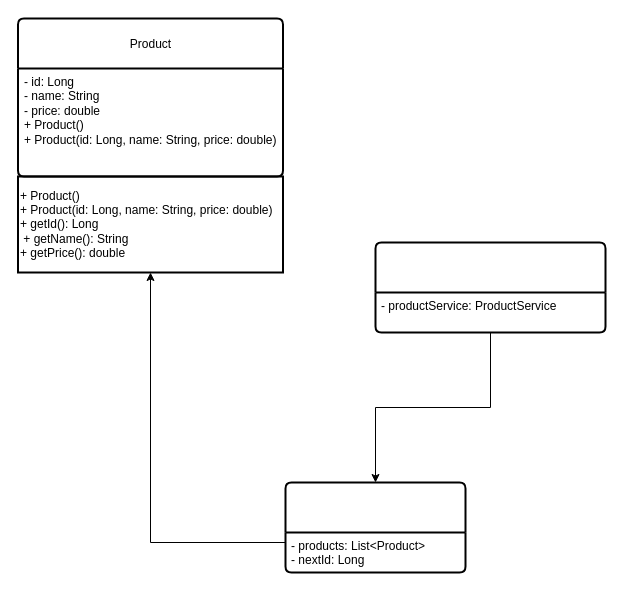
This 624x599 diagram has some shape labels left out. The shapes that lost their labels are listed below. From the top down, each one's box as (x1, y1, x2, y2) in pixels, then its label:
(374, 241, 606, 333): ProductController
(284, 481, 466, 573): ProductService
